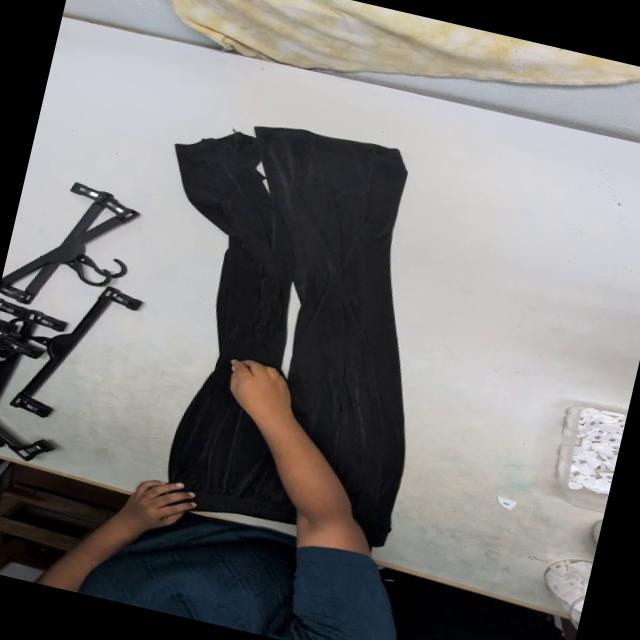new-garment: (168, 126, 406, 545)
